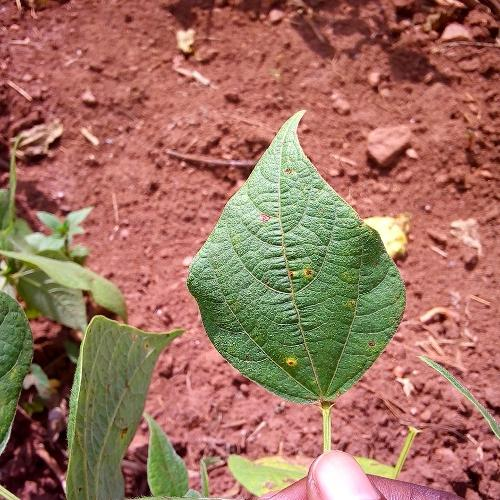hawar: (213, 111, 303, 214), (266, 245, 326, 389), (155, 244, 220, 351), (354, 289, 402, 376)
